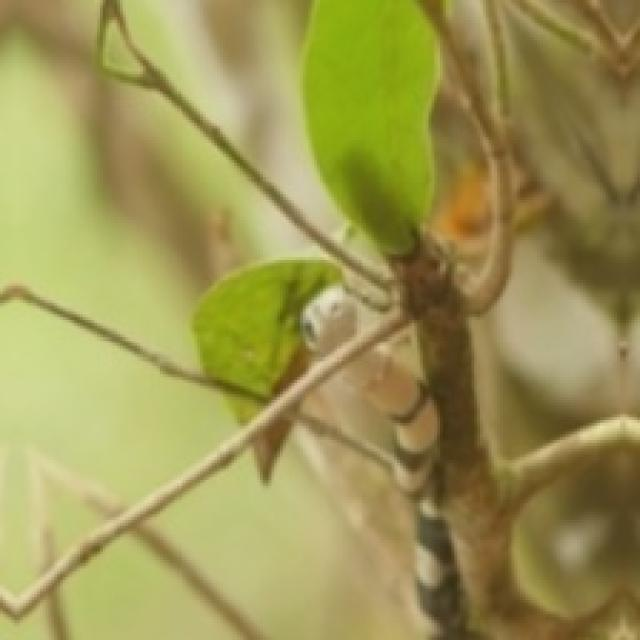king cobra: (346, 349, 466, 637)
